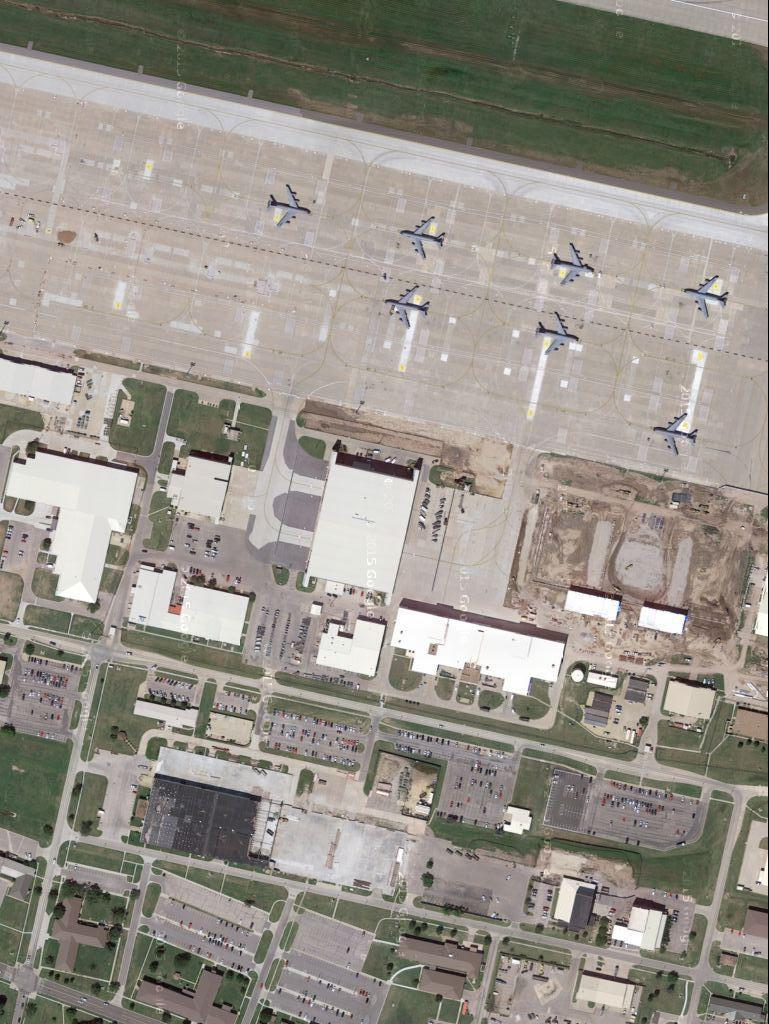KC-135: (680, 269, 732, 323), (648, 410, 705, 458), (531, 309, 584, 360), (395, 210, 446, 263), (381, 283, 433, 331), (262, 184, 315, 230), (549, 241, 597, 289)
